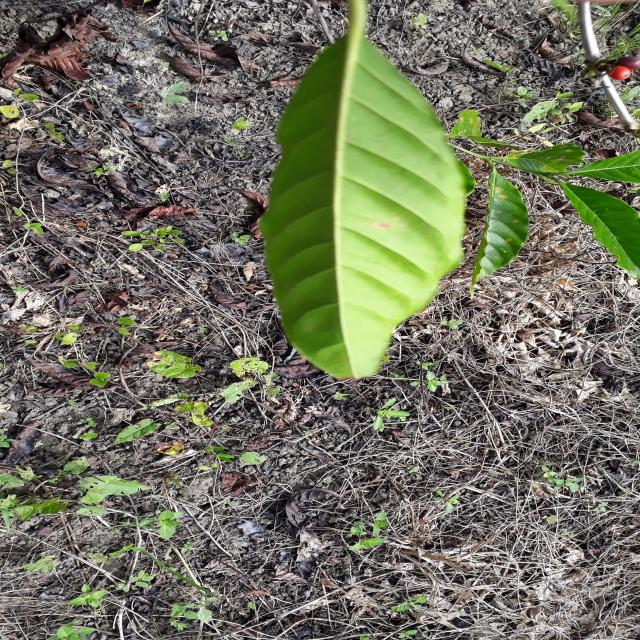Enfermedad-Roya: (257, 24, 472, 383)
